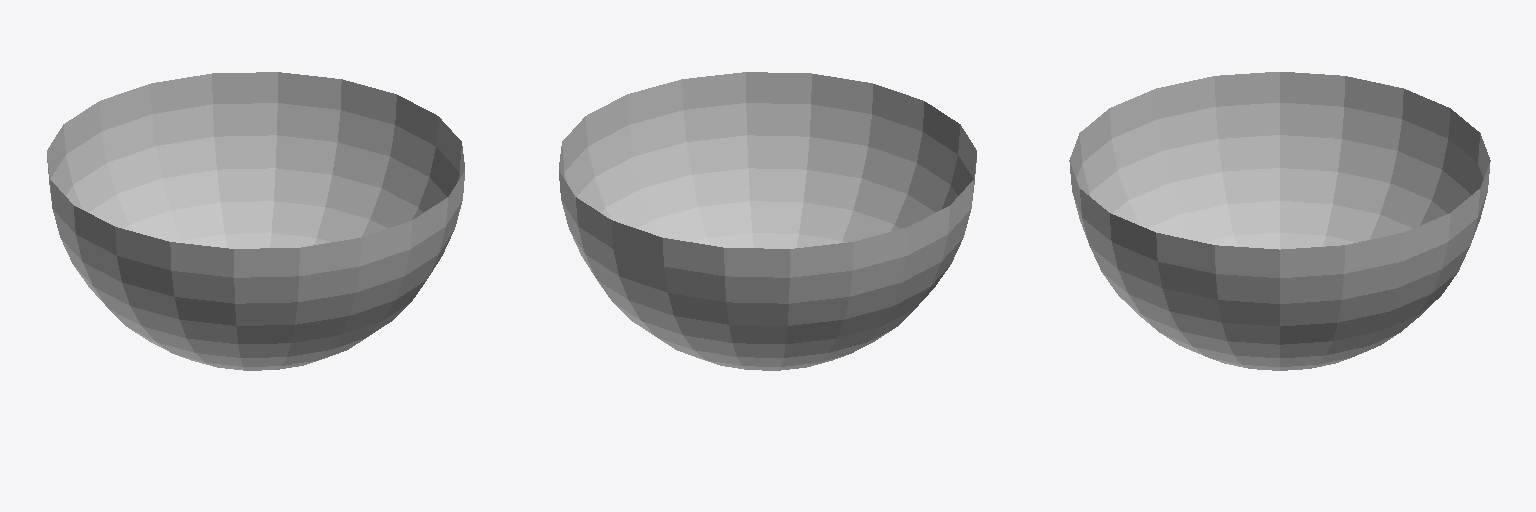
File: poke_abajo.obj
The picture shows the model from 3 angles: view 1: azimuth 30°, elevation 25°; view 2: azimuth 150°, elevation 25°; view 3: azimuth 270°, elevation 25°; orthographic projection.
Parts seen in each view (by area): view 1: polySurface1 pSphere1; view 2: polySurface1 pSphere1; view 3: polySurface1 pSphere1.
Part boxes in pixels (bbox=[...]): polySurface1 pSphere1: bbox=[47, 72, 464, 370]; polySurface1 pSphere1: bbox=[559, 72, 976, 370]; polySurface1 pSphere1: bbox=[1069, 72, 1490, 370].
Bounding box in the file's own units: 2 × 1 × 2.